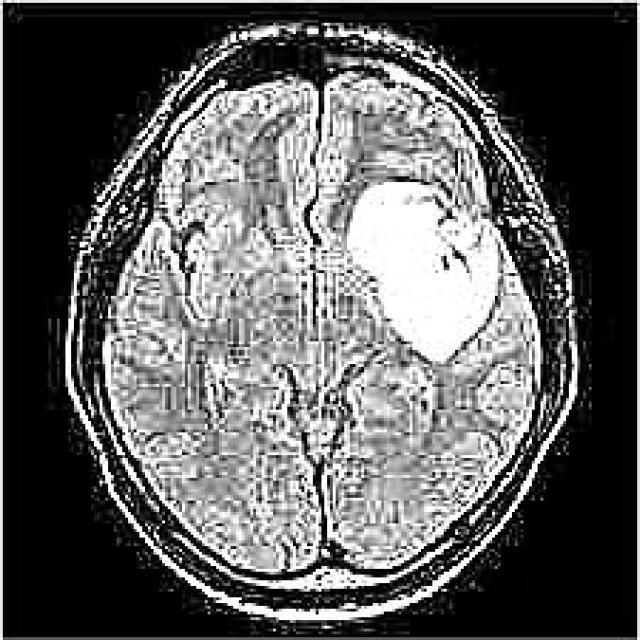brain tumor: (347, 185, 501, 367)
